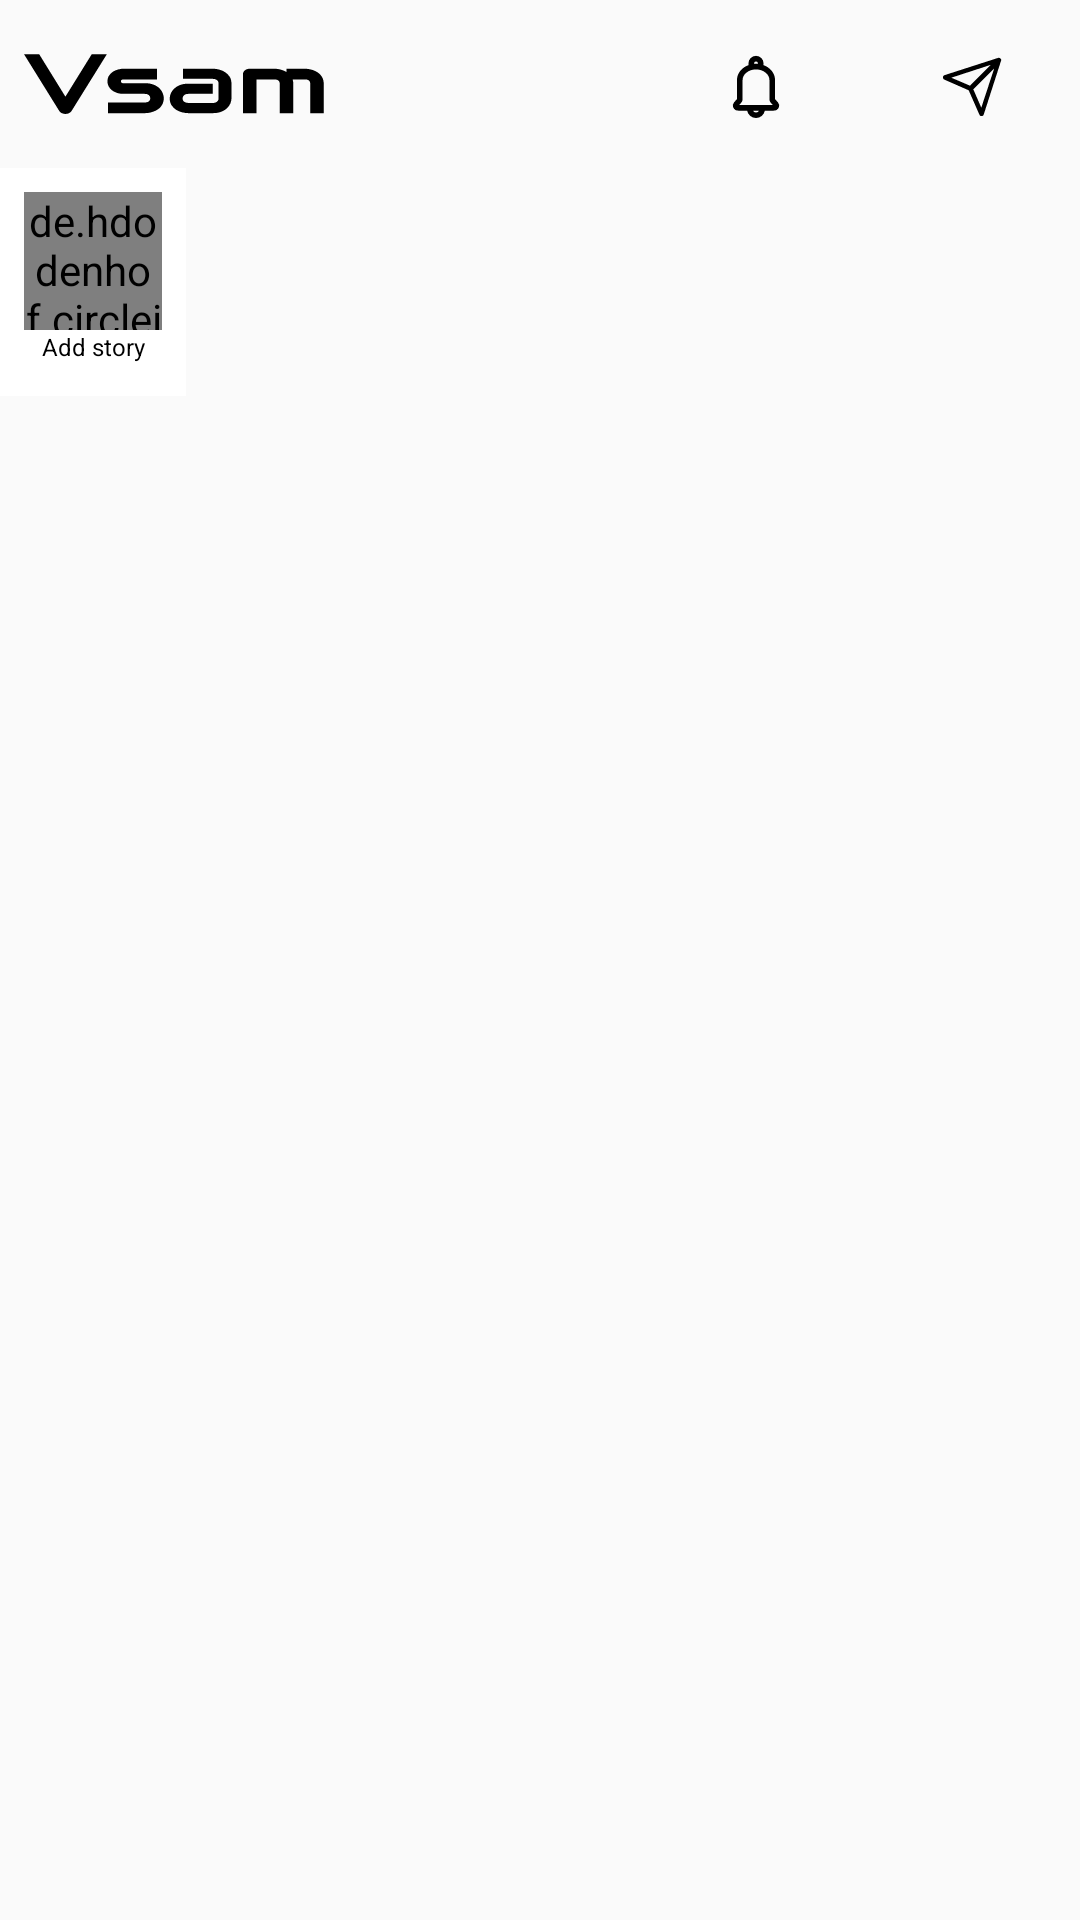

Where to tap for icons on this 1080px x 1920px app screen, as [x,y]:
messanger: [972,86]
notification: [756,87]
